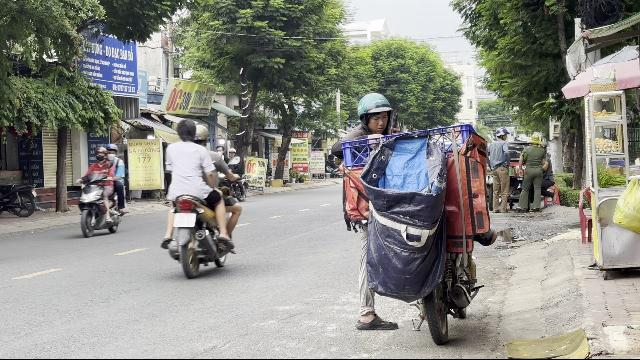helmet: (193, 123, 209, 145), (94, 144, 106, 160), (106, 142, 118, 158)
licenseplate: (174, 214, 196, 227)
motorcyclist: (160, 118, 240, 276), (76, 142, 126, 238)
nohelmet: (174, 118, 196, 142)
